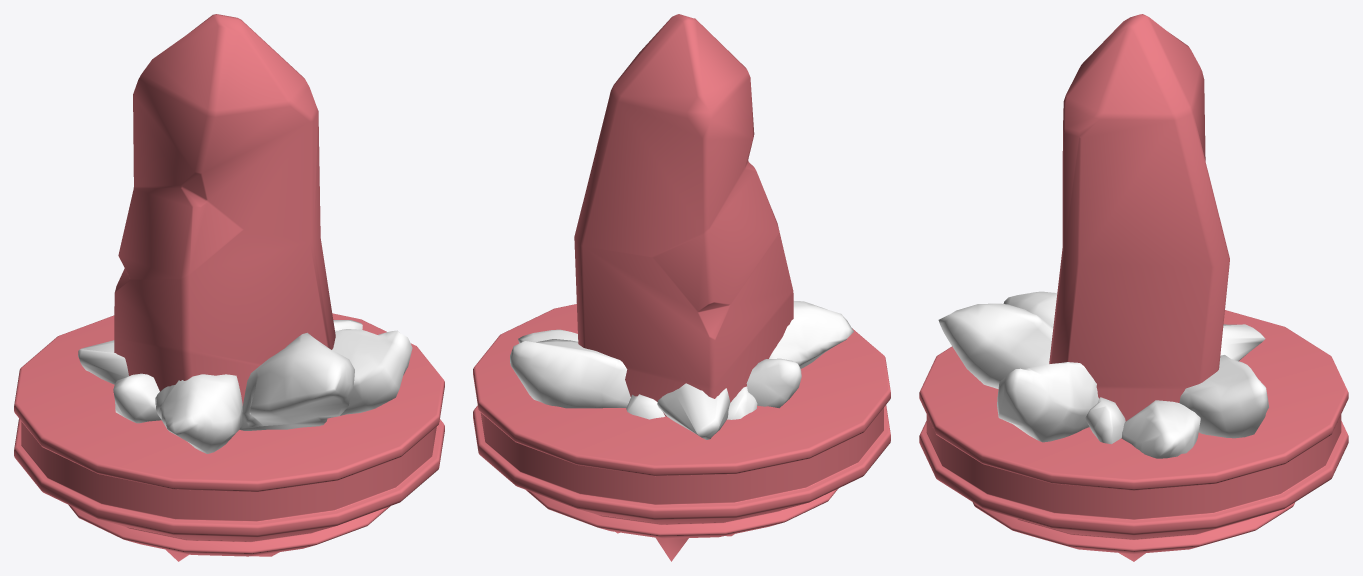
The model's file is SM_PortalKey.fbx.
The picture shows the model from 3 angles, left to right: view 1: azimuth 30°, elevation 25°; view 2: azimuth 150°, elevation 25°; view 3: azimuth 270°, elevation 25°; orthographic projection. The views are drawn at different scales.
Parts seen in each view (by area): view 1: pCube38, pCylinder8; view 2: pCube38, pCylinder8; view 3: pCube38, pCylinder8.
Part boxes in pixels (x1,y1,x2,y2): pCube38: (78, 14, 412, 453); pCylinder8: (14, 313, 444, 561); pCube38: (510, 14, 853, 439); pCylinder8: (473, 304, 890, 561); pCube38: (938, 14, 1268, 458); pCylinder8: (919, 310, 1348, 561).
Bounding box in the file's own units: 69 × 92.9 × 69.
